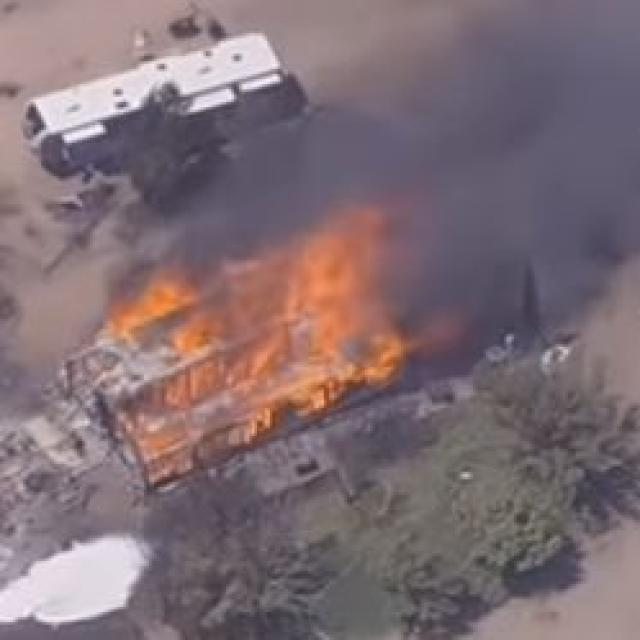Fire: (174, 218, 410, 444)
Smoke: (187, 28, 630, 360)
